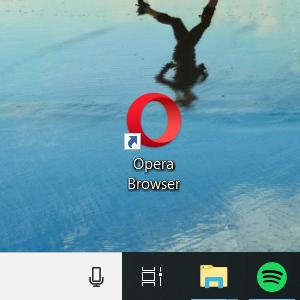opera: (124, 92, 181, 150)
